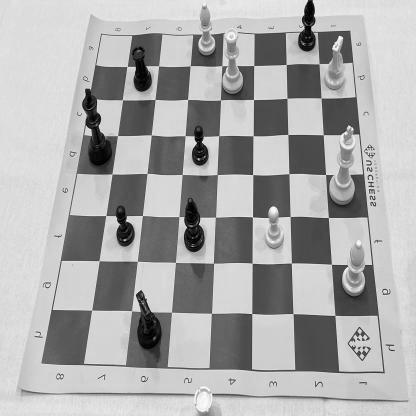black-bishop: (297, 0, 321, 60), (184, 193, 206, 254)
black-king: (82, 83, 111, 170)
black-knight: (134, 288, 162, 350)
black-pawn: (113, 201, 138, 248), (189, 124, 210, 168)
black-rook: (131, 40, 156, 95)
white-bishop: (342, 239, 372, 298), (197, 0, 216, 58)
white-king: (327, 121, 358, 207)
white-knight: (324, 31, 349, 92)
white-pawn: (264, 205, 289, 250)
white-queen: (221, 26, 247, 95)
